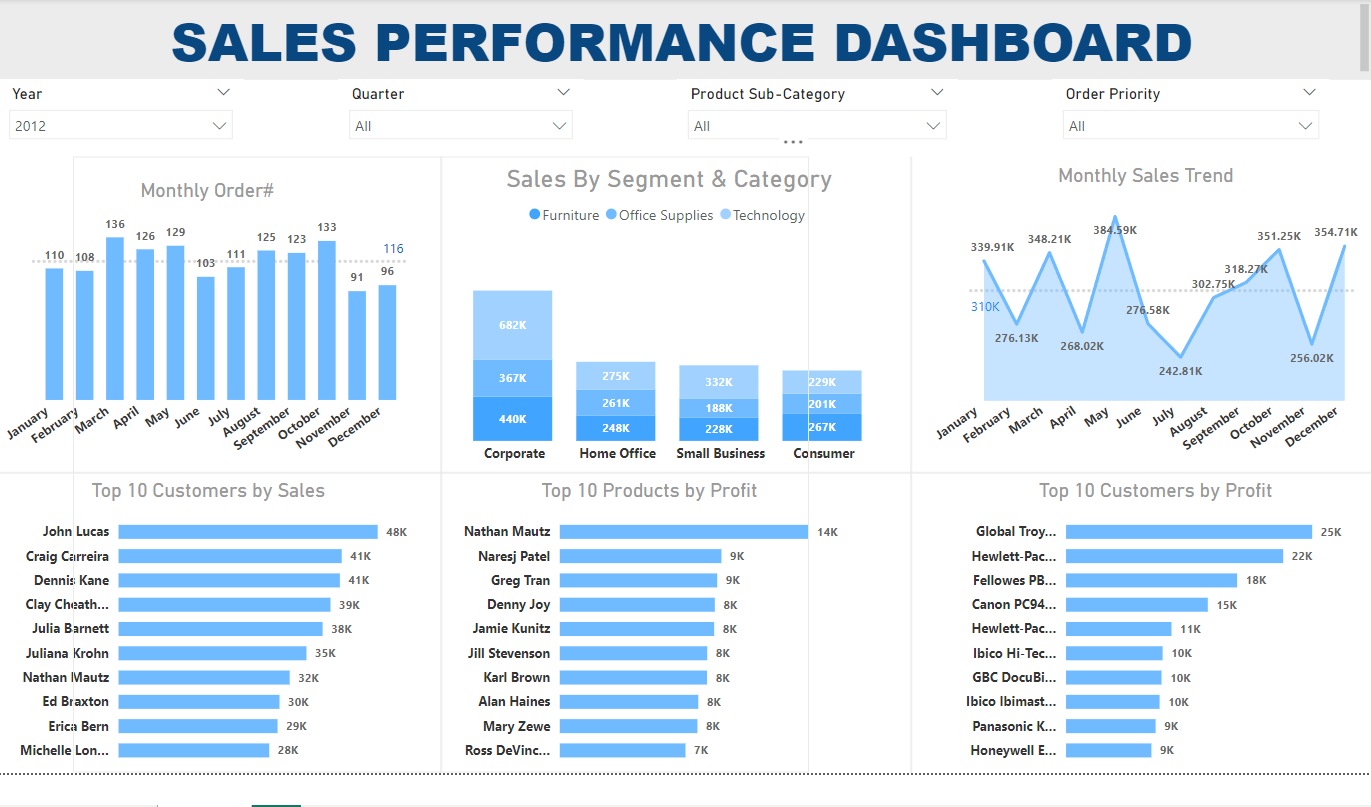

The page's visual inventory and layout, read from the dashboard file:
{"tool":"powerbi","page":{"name":"Page 1","canvas":[1280,720],"ordinal":0},"visuals":[{"type":"textbox","box":[0,0,1280,75],"z":0},{"type":"slicer","fields":{"Values":["Orders.Order Date.Variation.Date Hierarchy.Year"]},"box":[0,75,228.8,92.5],"z":1000},{"type":"slicer","fields":{"Values":["Orders.Order Date.Variation.Date Hierarchy.Quarter"]},"box":[315.8,75,228.8,92.5],"z":2000},{"type":"slicer","fields":{"Values":["Orders.Product Sub-Category"]},"box":[631.7,75,261.2,92.5],"z":3000},{"type":"slicer","fields":{"Values":["Orders.Order Priority"]},"box":[980,75,258.8,92.5],"z":4000},{"type":"clusteredColumnChart","title":"Monthly Order#","fields":{"Category":["Orders.Order Date.Variation.Date Hierarchy.Month"],"Y":["Orders.Order ID"]},"box":[1.2,167.5,386.2,273.8],"z":5000},{"type":"columnChart","title":"Sales By Segment & Category","fields":{"Y":["Orders.Sales"],"Series":["Orders.Product Category"],"Category":["Orders.Customer Segment"]},"box":[398.8,153.8,451.2,287.5],"z":6000},{"type":"areaChart","title":"Monthly Sales Trend","fields":{"Category":["Orders.Order Date.Variation.Date Hierarchy.Month"],"Y":["Orders.Sales"]},"box":[865,153.8,405,287.5],"z":6001},{"type":"clusteredBarChart","title":"Top 10 Customers by Sales","fields":{"Category":["Orders.Customer Name"],"Y":["Orders.Sales"]},"box":[2.5,446.2,386.2,273.8],"z":6002},{"type":"clusteredBarChart","title":"Top 10 Products by Profit","fields":{"Category":["Orders.Customer Name"],"Y":["Orders.Profit"]},"box":[412.5,446.2,386.2,273.8],"z":6003},{"type":"clusteredBarChart","title":"Top 10 Customers by Profit","fields":{"Y":["Orders.Profit"],"Category":["Orders.Product Name"]},"box":[883.8,446.2,386.2,273.8],"z":6004},{"type":"shape","box":[0,291.2,1280,300],"z":6005},{"type":"shape","box":[70,146.2,685,573.8],"z":6006},{"type":"shape","box":[507.5,146.2,685,573.8],"z":6007}]}

Visuals, with their boxes on the page's 1280x720 design canvas (x1, y1, x2, y2). These are canvas units, not pixel positions in the 1371x807 screenshot, which may show the page scaled, cropped or inside an application window:
textbox: (0, 0, 1280, 75)
slicer - Orders.Order Date.Variation.Date Hierarchy.Year: (0, 75, 229, 168)
slicer - Orders.Order Date.Variation.Date Hierarchy.Quarter: (316, 75, 545, 168)
slicer - Orders.Product Sub-Category: (632, 75, 893, 168)
slicer - Orders.Order Priority: (980, 75, 1239, 168)
"Monthly Order#" clusteredColumnChart: (1, 168, 387, 441)
"Sales By Segment & Category" columnChart: (399, 154, 850, 441)
"Monthly Sales Trend" areaChart: (865, 154, 1270, 441)
"Top 10 Customers by Sales" clusteredBarChart: (2, 446, 389, 720)
"Top 10 Products by Profit" clusteredBarChart: (412, 446, 799, 720)
"Top 10 Customers by Profit" clusteredBarChart: (884, 446, 1270, 720)
shape: (0, 291, 1280, 591)
shape: (70, 146, 755, 720)
shape: (508, 146, 1192, 720)
